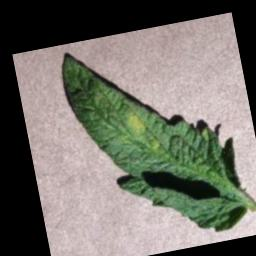Leaf_Mold: (126, 110, 147, 133)
